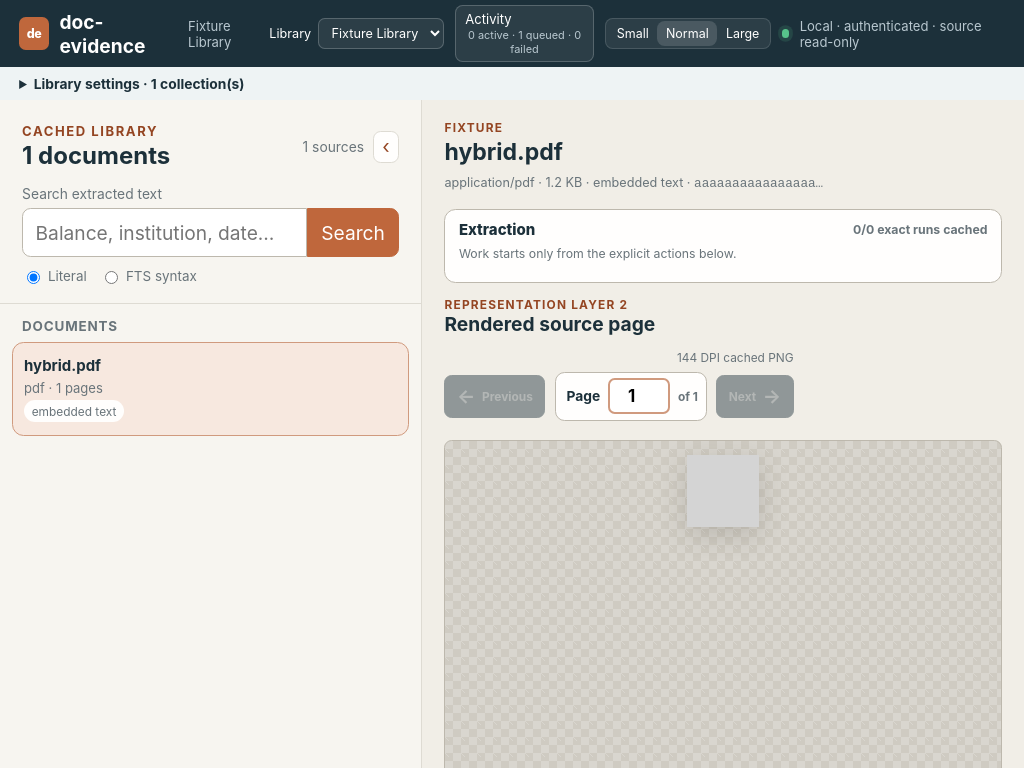
Test: application states › renders inventory safely in shared library activity
Click the button "Activity 0 active · 1 queued · 0 failed". click: [525, 34]
box: x1=455 y1=5 x2=594 y2=62
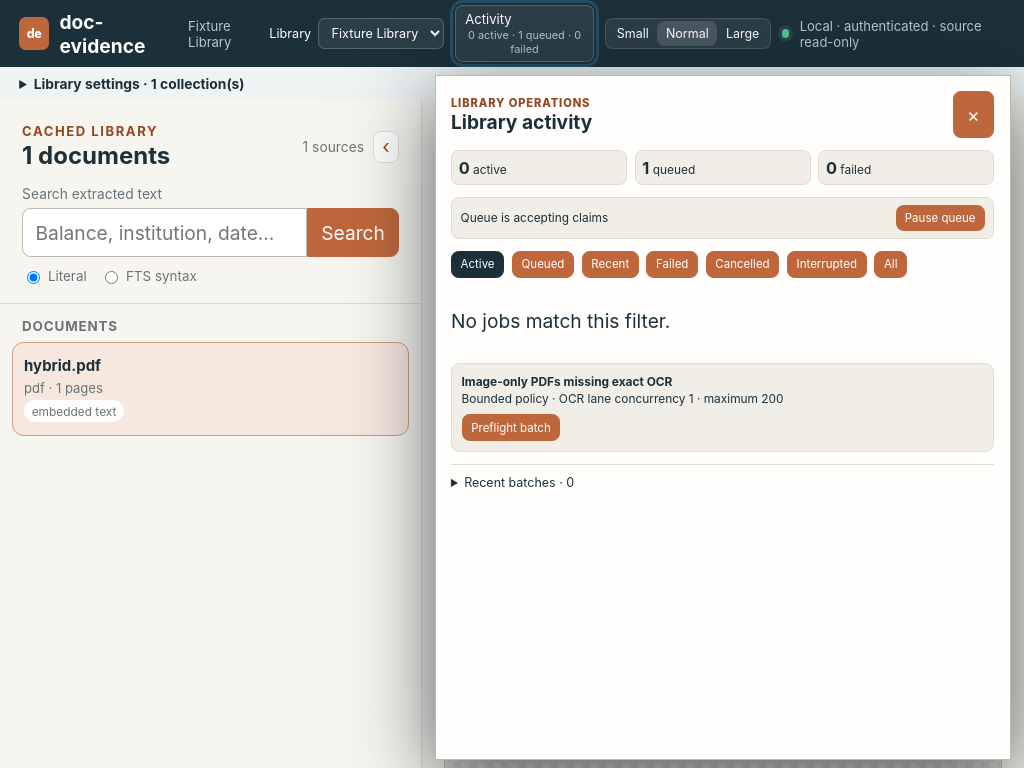
Click the button "Queued". click: [543, 264]
box: x1=512 y1=250 x2=574 y2=278
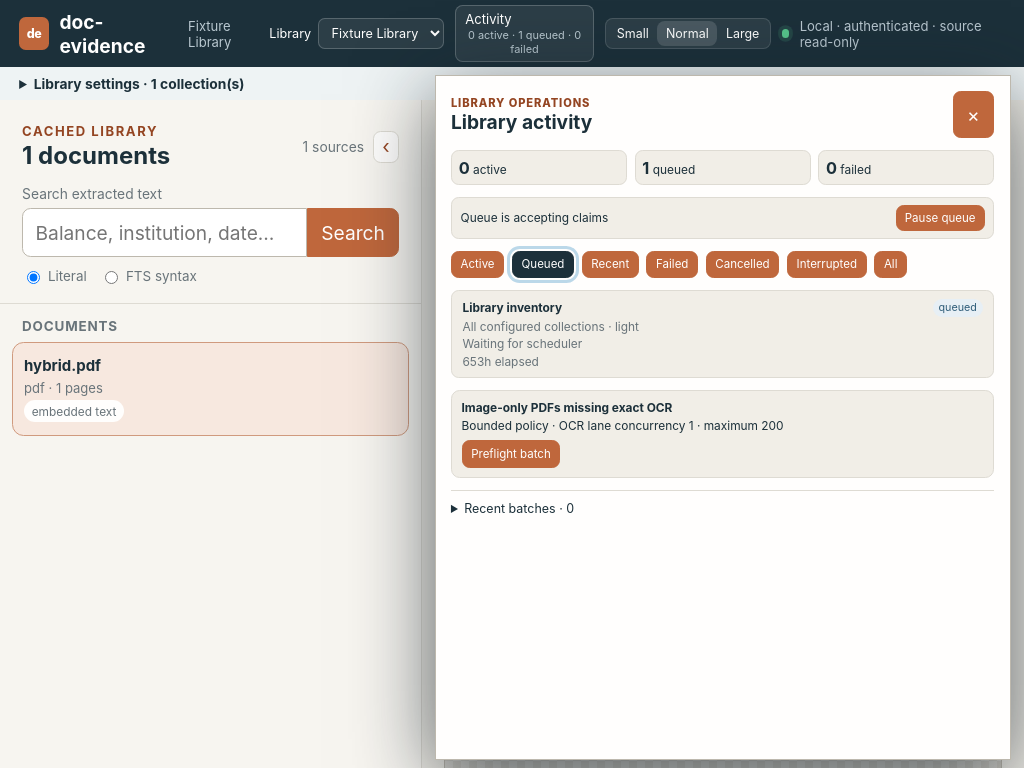
Result: the text "Library inventory" is shown at x1=462 y1=300 x2=562 y2=315
Result: the text "All configured collections · light" is shown at x1=462 y1=319 x2=639 y2=334
